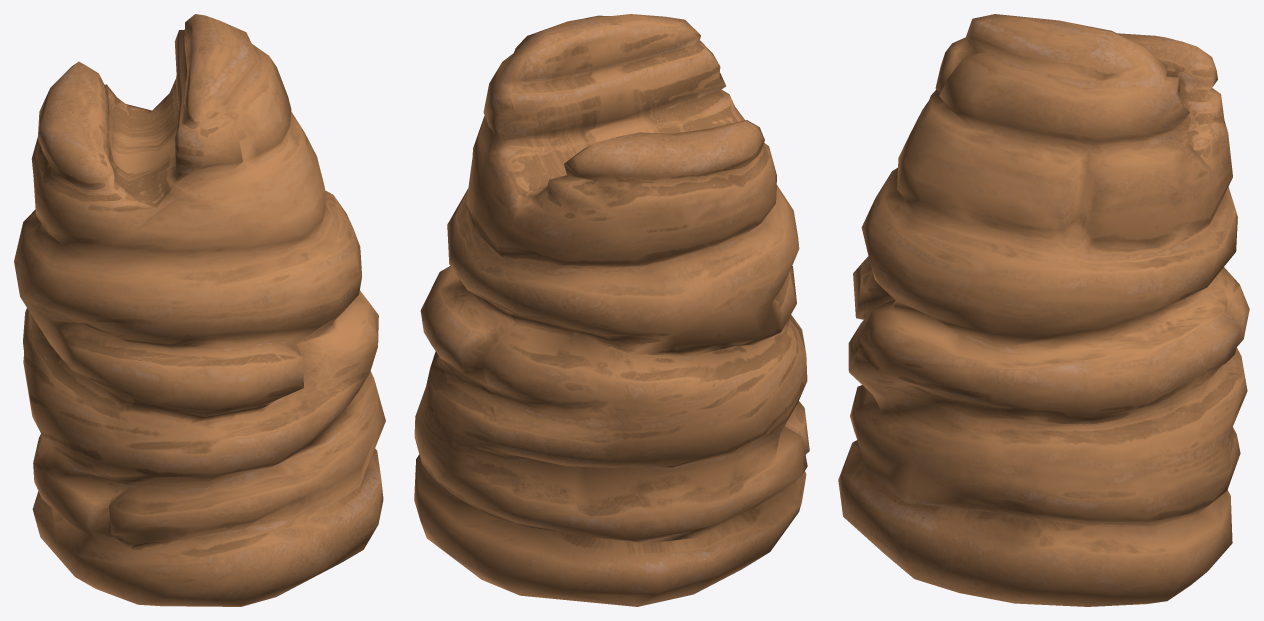
The model's file is rock8.fbx.
3 renders of one model, left to right at view 1: azimuth 30°, elevation 25°; view 2: azimuth 150°, elevation 25°; view 3: azimuth 270°, elevation 25°, orthographic. The views are drawn at different scales.
Parts seen in each view (by area): view 1: Plane.070; view 2: Plane.070; view 3: Plane.070.
Boxes of the visible parts, x1=… form: Plane.070: x1=14, y1=14, x2=385, y2=606; Plane.070: x1=414, y1=14, x2=809, y2=606; Plane.070: x1=838, y1=14, x2=1249, y2=606.
Bounding box in the file's own units: 385 × 587 × 398.
Materials: 1 (1 with a texture image).
